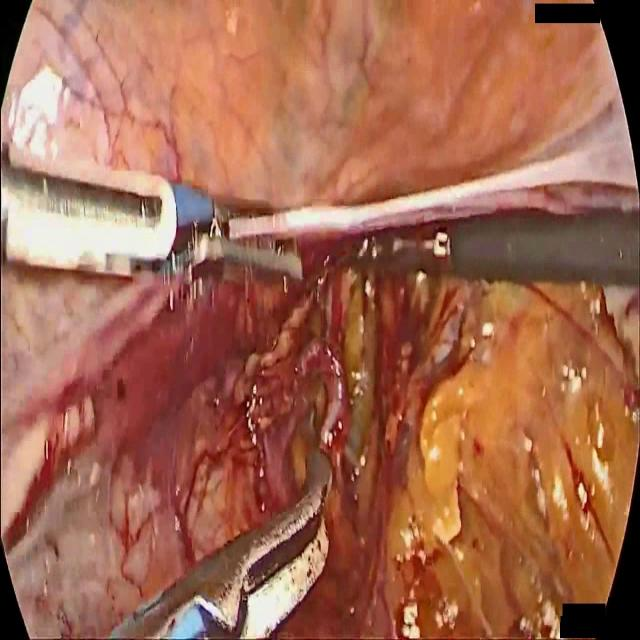surgical-area: (0, 0, 640, 639)
surgical-tool: (0, 140, 304, 283), (108, 446, 332, 639), (368, 212, 640, 287)
